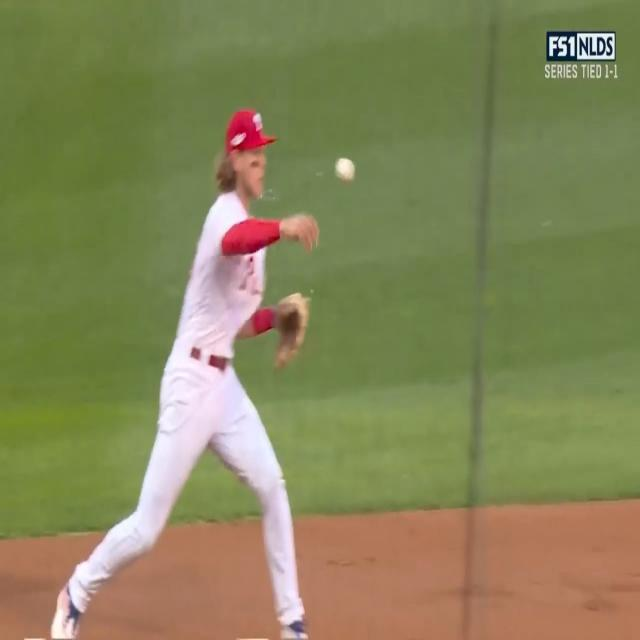baseball: (335, 154, 356, 185)
